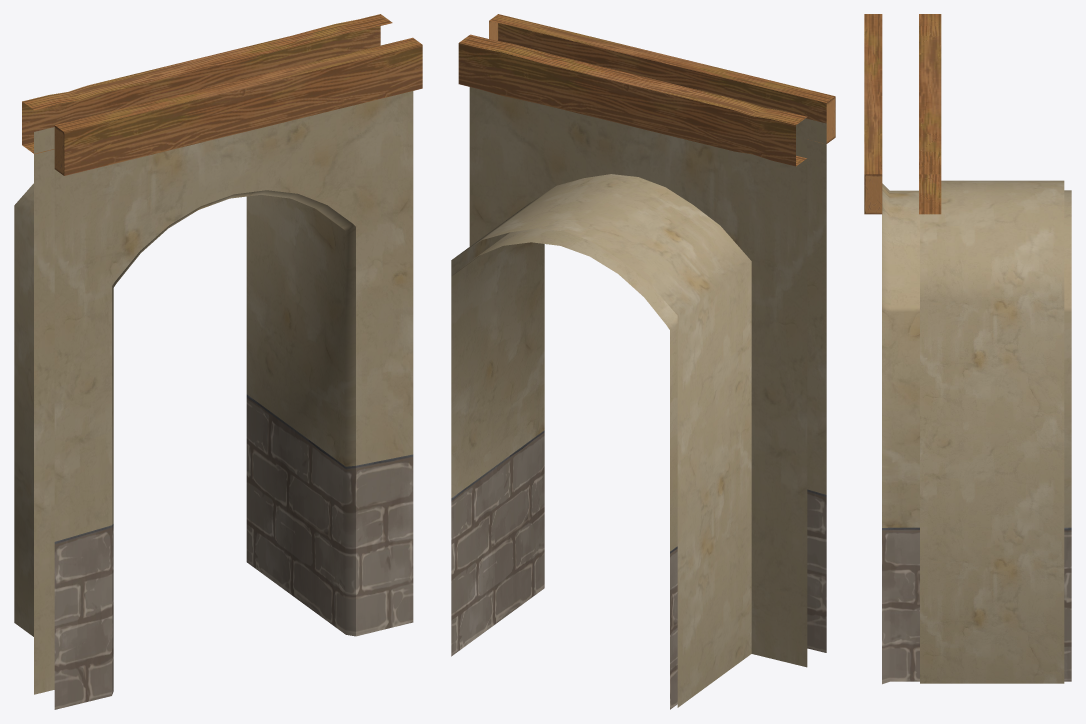
File: Wall_Plaster_Door_RoundInset.gltf
3 views of the same model, side by side, from view 1: azimuth 30°, elevation 25°; view 2: azimuth 150°, elevation 25°; view 3: azimuth 270°, elevation 25° (orthographic). The views are drawn at different scales.
Visible parts, largest first — view 1: Wall_Plaster_Door_RoundInset; view 2: Wall_Plaster_Door_RoundInset; view 3: Wall_Plaster_Door_RoundInset.
Boxes of the visible parts, left/top/right/bottom form: Wall_Plaster_Door_RoundInset: left=14, top=14, right=422, bottom=709; Wall_Plaster_Door_RoundInset: left=451, top=14, right=835, bottom=709; Wall_Plaster_Door_RoundInset: left=864, top=14, right=1071, bottom=684.
Bounding box in the file's own units: 2 × 3.12 × 1.09.
3 materials, 3 textured.
